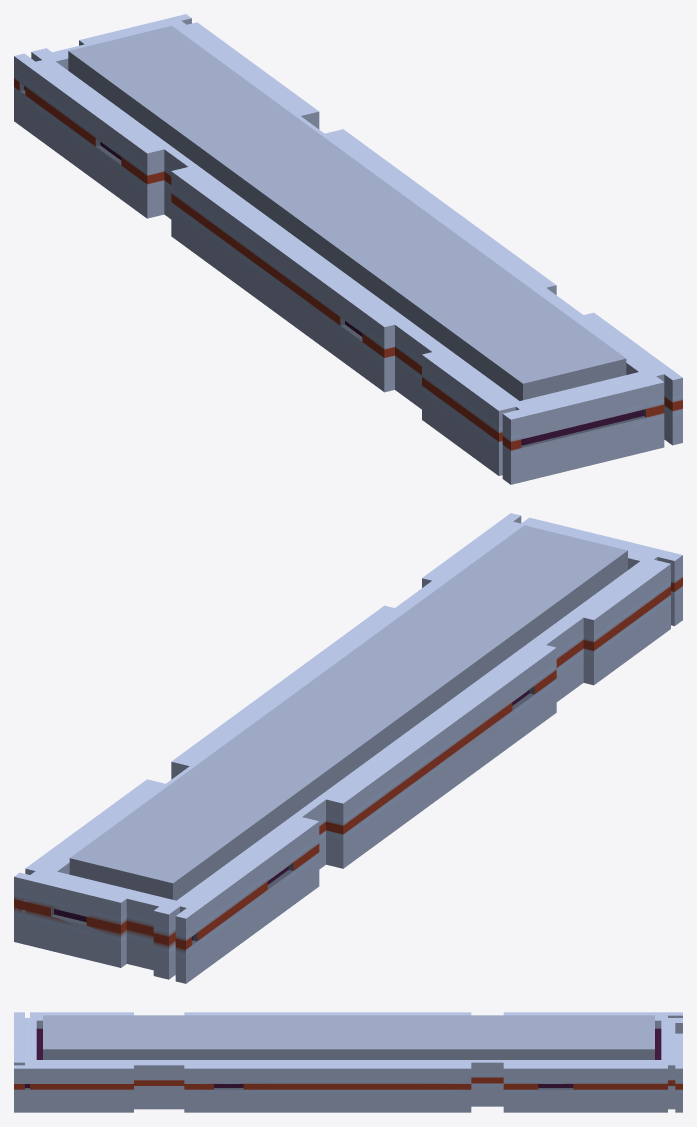
Rendered from Bridge_5.fbx.
3 views of the same model, one above another, from view 1: azimuth 30°, elevation 25°; view 2: azimuth 150°, elevation 25°; view 3: azimuth 270°, elevation 25° (orthographic). The views are drawn at different scales.
Parts seen in each view (by area): view 1: Cube.035; view 2: Cube.035; view 3: Cube.035.
Boxes of the visible parts, left/top/right/bottom form: Cube.035: left=14, top=14, right=682, bottom=484; Cube.035: left=14, top=513, right=682, bottom=983; Cube.035: left=14, top=1012, right=682, bottom=1112.
Size of the model in its own units: 100 by 42.86 by 500.
